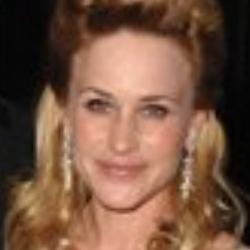face: (36, 1, 221, 221)
